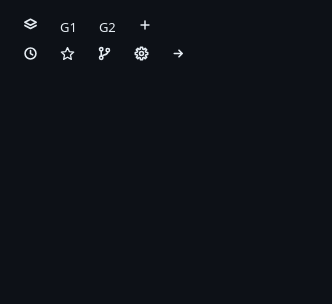
it: Kokpit rayı: sağ tık menüsü › kovanın hemen altındaki grup yukarı taşınamıyor
The image size is (332, 304).
Right-click the button with class "grail-item" showing "G1" at (68, 27), box [49,14,88,40]
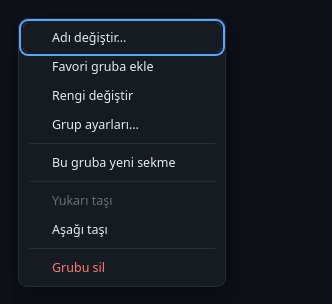
Check: the menu item with class "ctx-item" showing "Yukarı taşı" is disabled, box [23,186,221,215]
Check: the menu item with class "ctx-item" showing "Aşağı taşı" is enabled, box [23,215,221,244]
